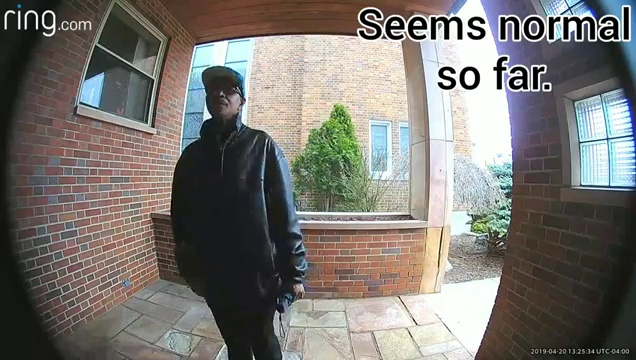face: (205, 84, 236, 114)
